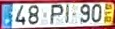0: (90, 3, 102, 24)
4: (13, 4, 26, 26)
8: (26, 3, 40, 25)
9: (77, 3, 90, 24)
I: (64, 3, 69, 24)
P: (49, 3, 64, 25)
